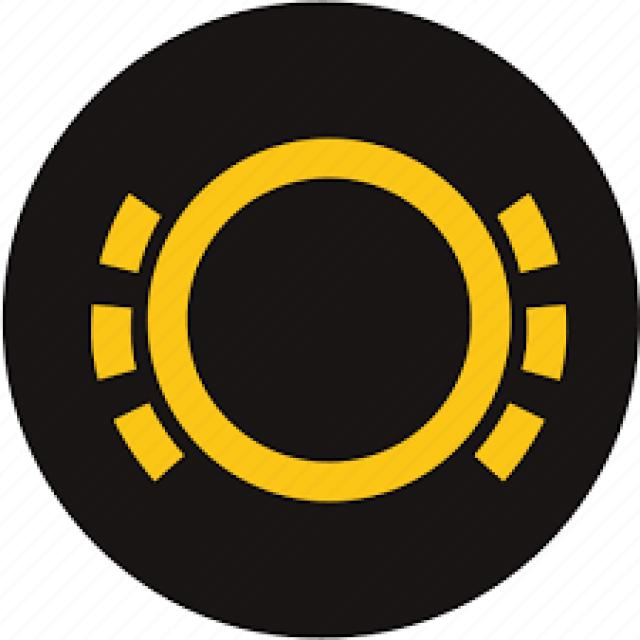kontrolka: (89, 122, 582, 510)
